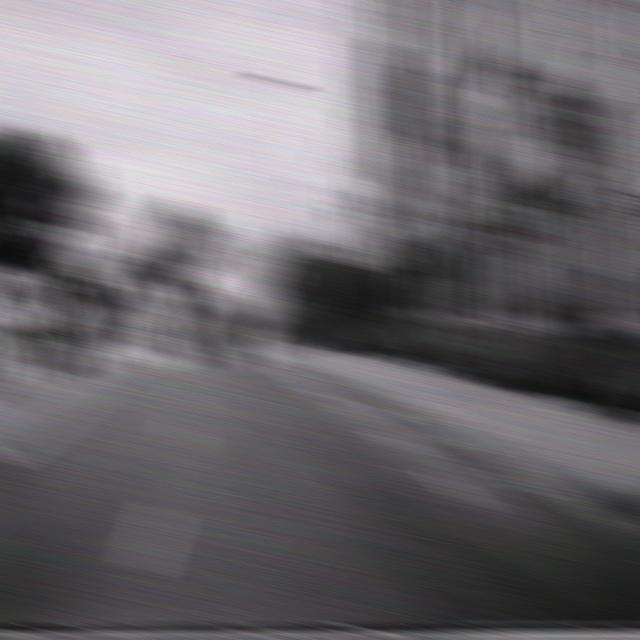stop_sign: (254, 295, 283, 318), (115, 326, 143, 346)
